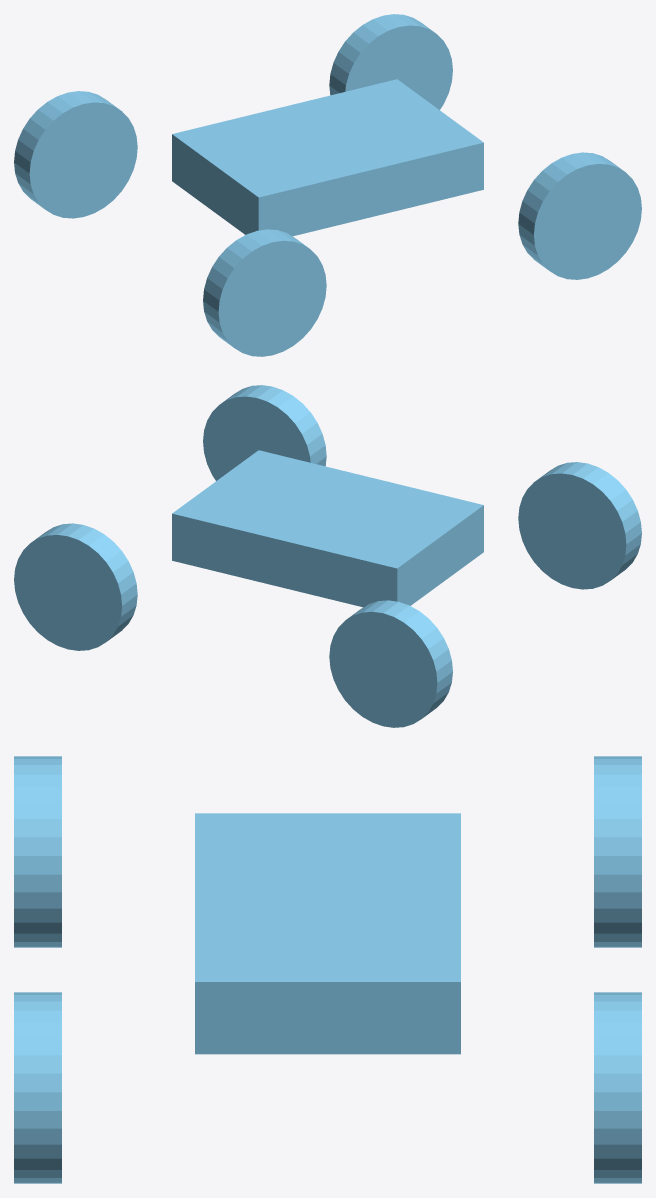
The model's file is base_macchina.glb.
3 views of the same model, one above another, from view 1: azimuth 30°, elevation 25°; view 2: azimuth 150°, elevation 25°; view 3: azimuth 270°, elevation 25° (orthographic). The views are drawn at different scales.
Visible parts, largest first — view 1: base_macchina_body, base_macchina_wheel0, base_macchina_wheel1, base_macchina_wheel2, base_macchina_wheel3; view 2: base_macchina_body, base_macchina_wheel2, base_macchina_wheel0, base_macchina_wheel3, base_macchina_wheel1; view 3: base_macchina_body, base_macchina_wheel0, base_macchina_wheel1, base_macchina_wheel2, base_macchina_wheel3.
Boxes of the visible parts, bbox=[...] form: base_macchina_body: bbox=[172, 79, 483, 236]; base_macchina_wheel0: bbox=[203, 229, 326, 356]; base_macchina_wheel1: bbox=[518, 152, 641, 279]; base_macchina_wheel2: bbox=[14, 91, 137, 218]; base_macchina_wheel3: bbox=[329, 14, 452, 109]; base_macchina_body: bbox=[172, 450, 483, 607]; base_macchina_wheel2: bbox=[329, 600, 452, 727]; base_macchina_wheel0: bbox=[518, 462, 641, 589]; base_macchina_wheel3: bbox=[14, 523, 137, 650]; base_macchina_wheel1: bbox=[203, 385, 326, 480]; base_macchina_body: bbox=[195, 813, 460, 1054]; base_macchina_wheel0: bbox=[14, 756, 61, 947]; base_macchina_wheel1: bbox=[14, 992, 61, 1183]; base_macchina_wheel2: bbox=[594, 756, 641, 947]; base_macchina_wheel3: bbox=[594, 992, 641, 1183].
Size of the model in its own units: 0.94 by 0.24 by 0.7867.
